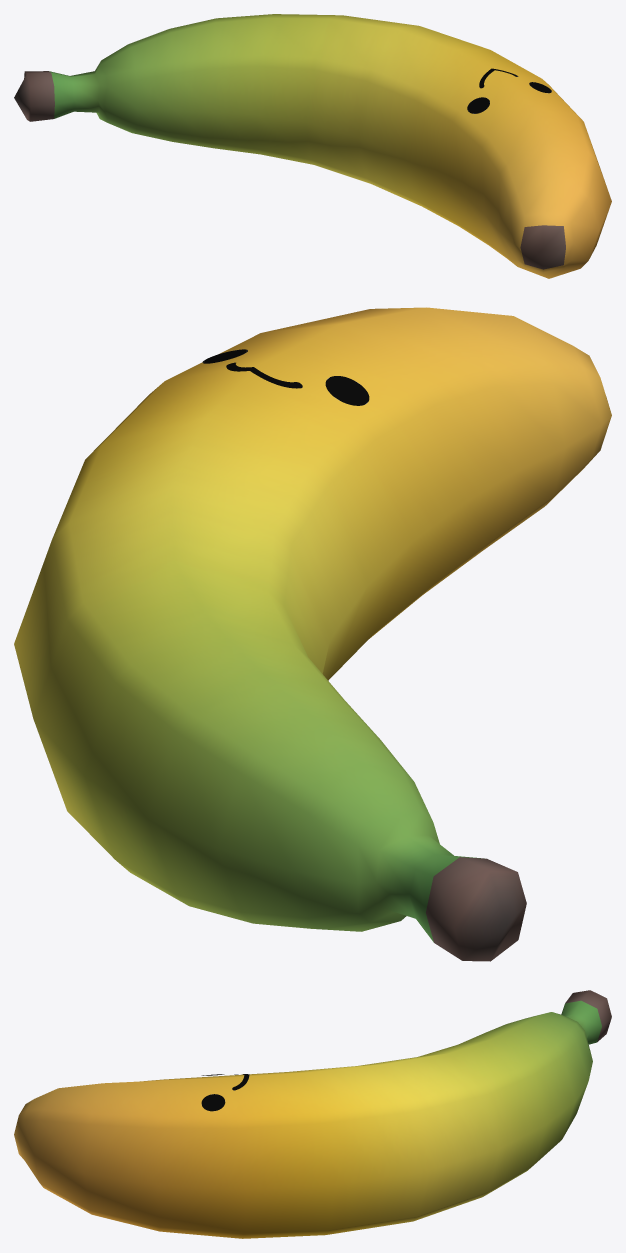
Rendered from banana_smile.fbx.
3 renders of one model, top to bottom at view 1: azimuth 30°, elevation 25°; view 2: azimuth 150°, elevation 25°; view 3: azimuth 270°, elevation 25°, orthographic. The views are drawn at different scales.
Parts seen in each view (by area): view 1: banana_smile; view 2: banana_smile; view 3: banana_smile.
Part boxes in pixels (x1=…): banana_smile: x1=14, y1=14, x2=611, y2=278; banana_smile: x1=14, y1=307, x2=611, y2=961; banana_smile: x1=14, y1=990, x2=611, y2=1238.
Size of the model in its own units: 94.62 by 38.65 by 131.
